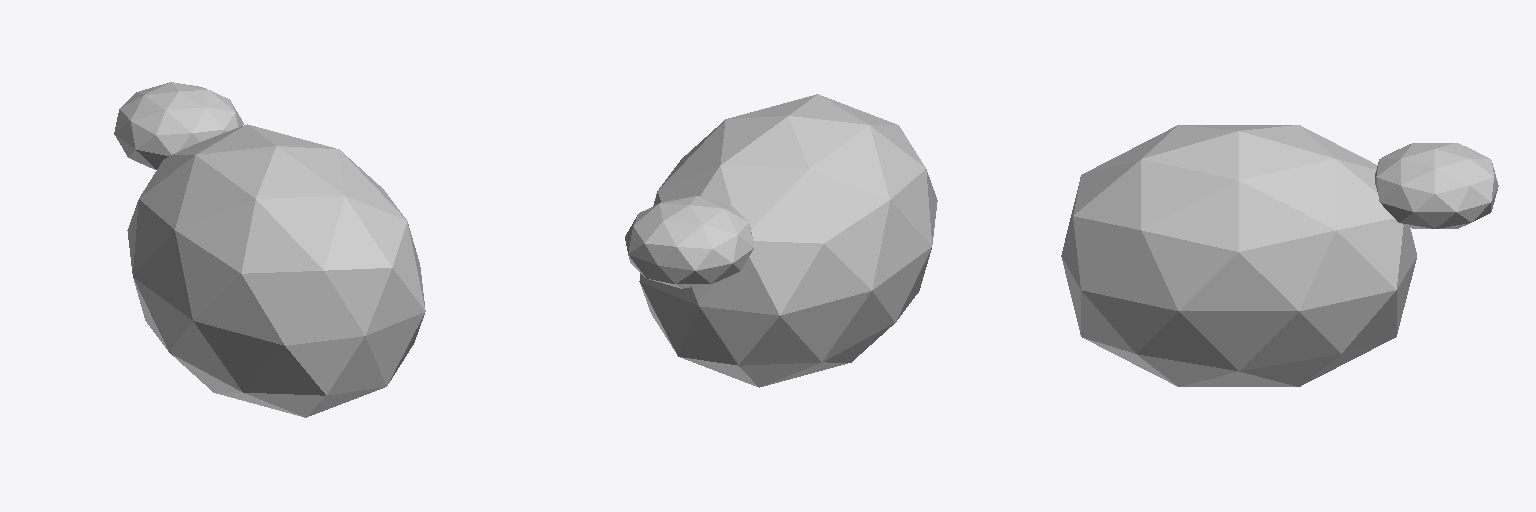
Rendered from corpo.obj.
3 views of the same model, side by side, from view 1: azimuth 30°, elevation 25°; view 2: azimuth 150°, elevation 25°; view 3: azimuth 270°, elevation 25° (orthographic).
Visible parts, largest first — view 1: Icosphere, Icosphere.002_Icosphere.003; view 2: Icosphere, Icosphere.002_Icosphere.003; view 3: Icosphere, Icosphere.002_Icosphere.003.
Part boxes in pixels (bbox=[...]): Icosphere: bbox=[127, 124, 425, 417]; Icosphere.002_Icosphere.003: bbox=[114, 82, 243, 169]; Icosphere: bbox=[639, 94, 937, 387]; Icosphere.002_Icosphere.003: bbox=[625, 196, 753, 288]; Icosphere: bbox=[1061, 125, 1416, 386]; Icosphere.002_Icosphere.003: bbox=[1375, 143, 1498, 228].
Bounding box in the file's own units: 1.9 × 2 × 3.17.